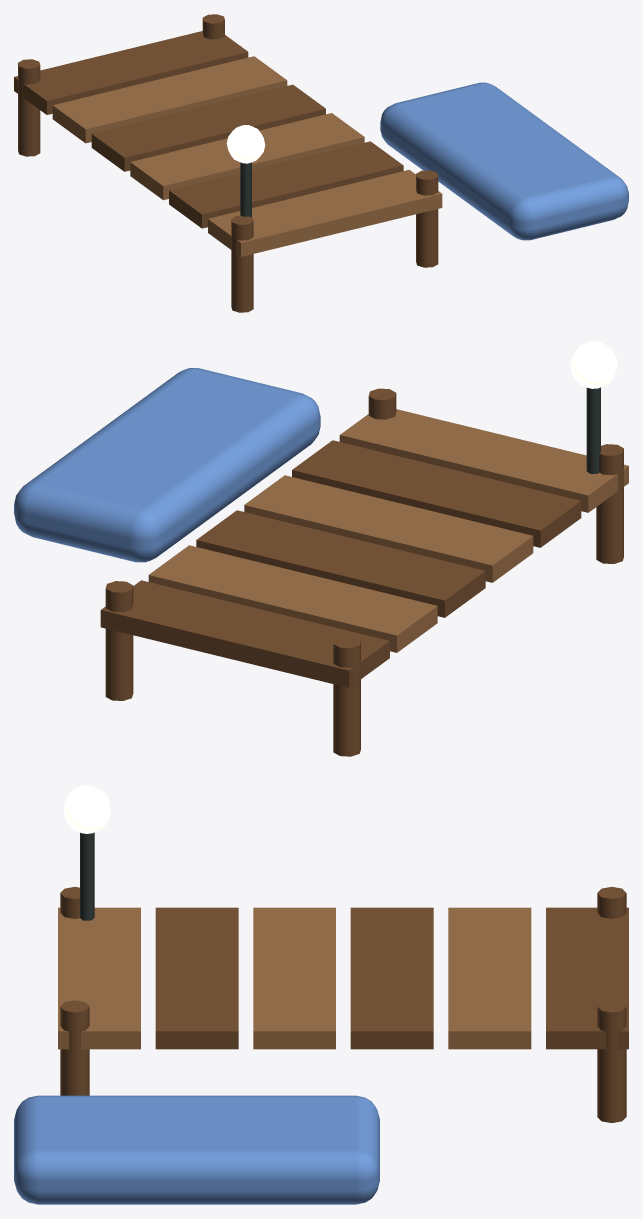
Rendered from prop_district_pier_ph.glb.
3 views of the same model, one above another, from view 1: azimuth 30°, elevation 25°; view 2: azimuth 150°, elevation 25°; view 3: azimuth 270°, elevation 25° (orthographic). The views are drawn at different scales.
Parts seen in each view (by area): view 1: prop_district_pier; view 2: prop_district_pier; view 3: prop_district_pier.
Part boxes in pixels (left/top/right/bottom): prop_district_pier: left=14, top=14, right=628, bottom=312; prop_district_pier: left=14, top=341, right=628, bottom=756; prop_district_pier: left=14, top=785, right=628, bottom=1204.
Size of the model in its own units: 2.26 by 1 by 2.52.
